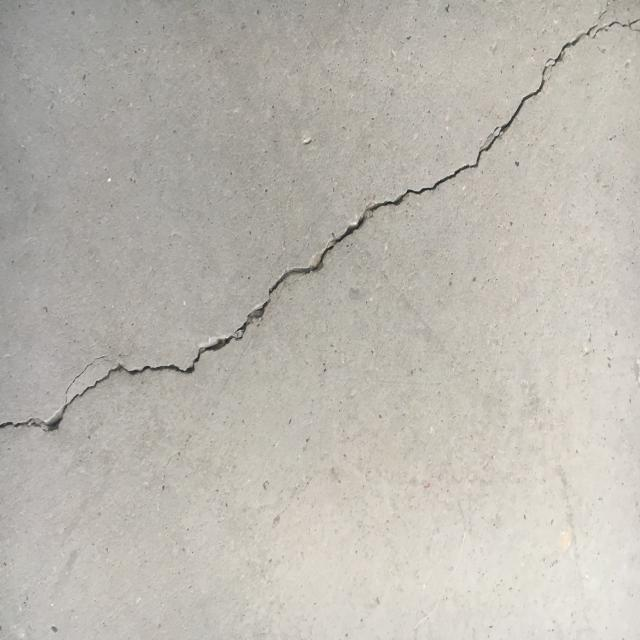Rachadura: (0, 0, 640, 430)
